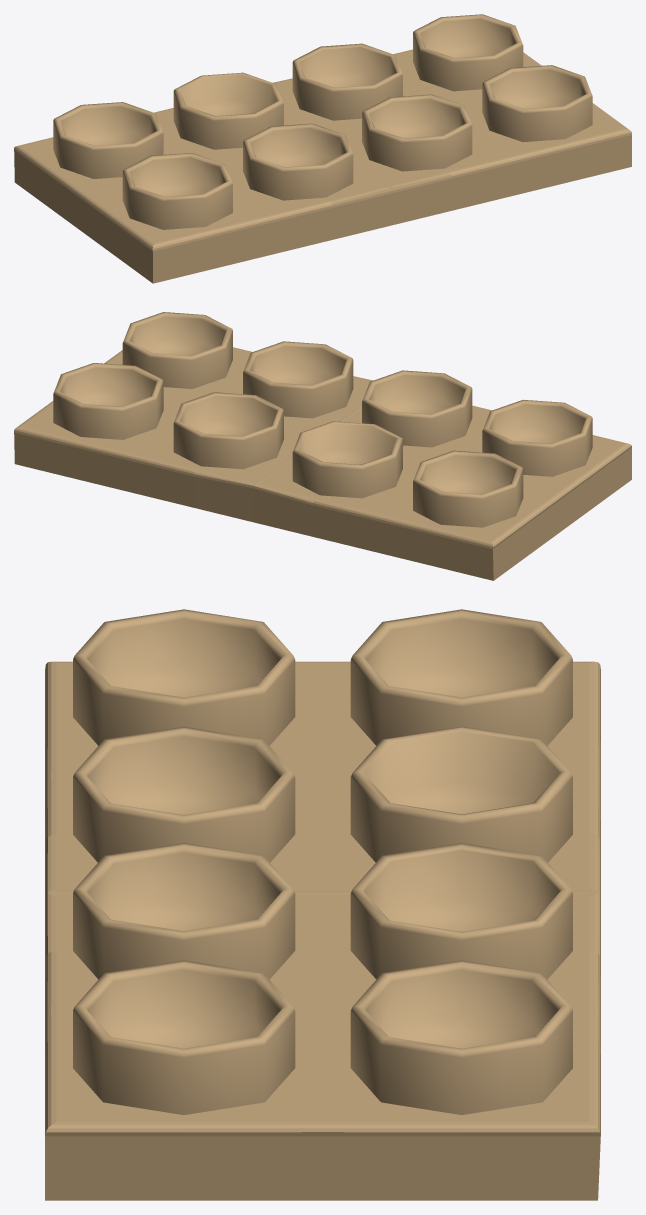
File: Lego_Plat_Long_02.fbx
3 views of the same model, one above another, from view 1: azimuth 30°, elevation 25°; view 2: azimuth 150°, elevation 25°; view 3: azimuth 270°, elevation 25° (orthographic). The views are drawn at different scales.
Visible parts, largest first — view 1: Lego_Plat_Long_02; view 2: Lego_Plat_Long_02; view 3: Lego_Plat_Long_02.
Part boxes in pixels (x1,y1,x2,y2): Lego_Plat_Long_02: [14, 14, 631, 283]; Lego_Plat_Long_02: [14, 312, 631, 580]; Lego_Plat_Long_02: [45, 609, 600, 1200].
Bounding box in the file's own units: 19.93 × 2.72 × 10.
